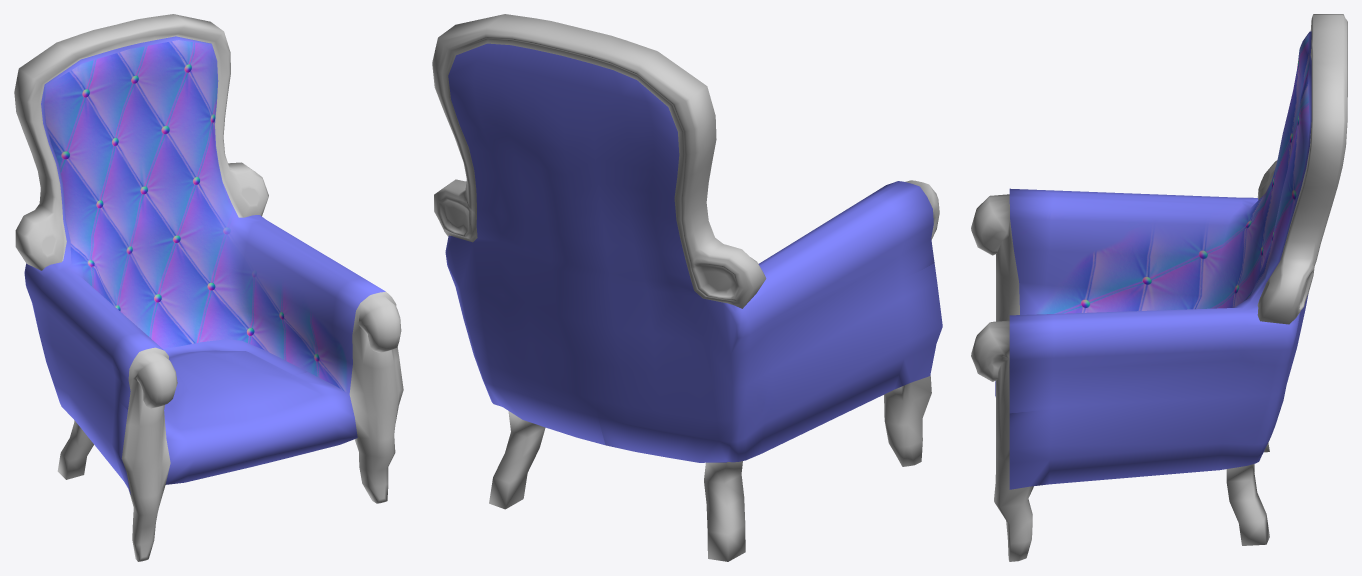
Rendered from chair.fbx.
3 renders of one model, left to right at view 1: azimuth 30°, elevation 25°; view 2: azimuth 150°, elevation 25°; view 3: azimuth 270°, elevation 25°, orthographic. The views are drawn at different scales.
Parts seen in each view (by area): view 1: chair; view 2: chair; view 3: chair.
Part boxes in pixels (x1=…): chair: x1=14, y1=14, x2=403, y2=561; chair: x1=432, y1=14, x2=942, y2=561; chair: x1=971, y1=14, x2=1347, y2=561.
Size of the model in its own units: 73.79 by 100 by 75.74.
